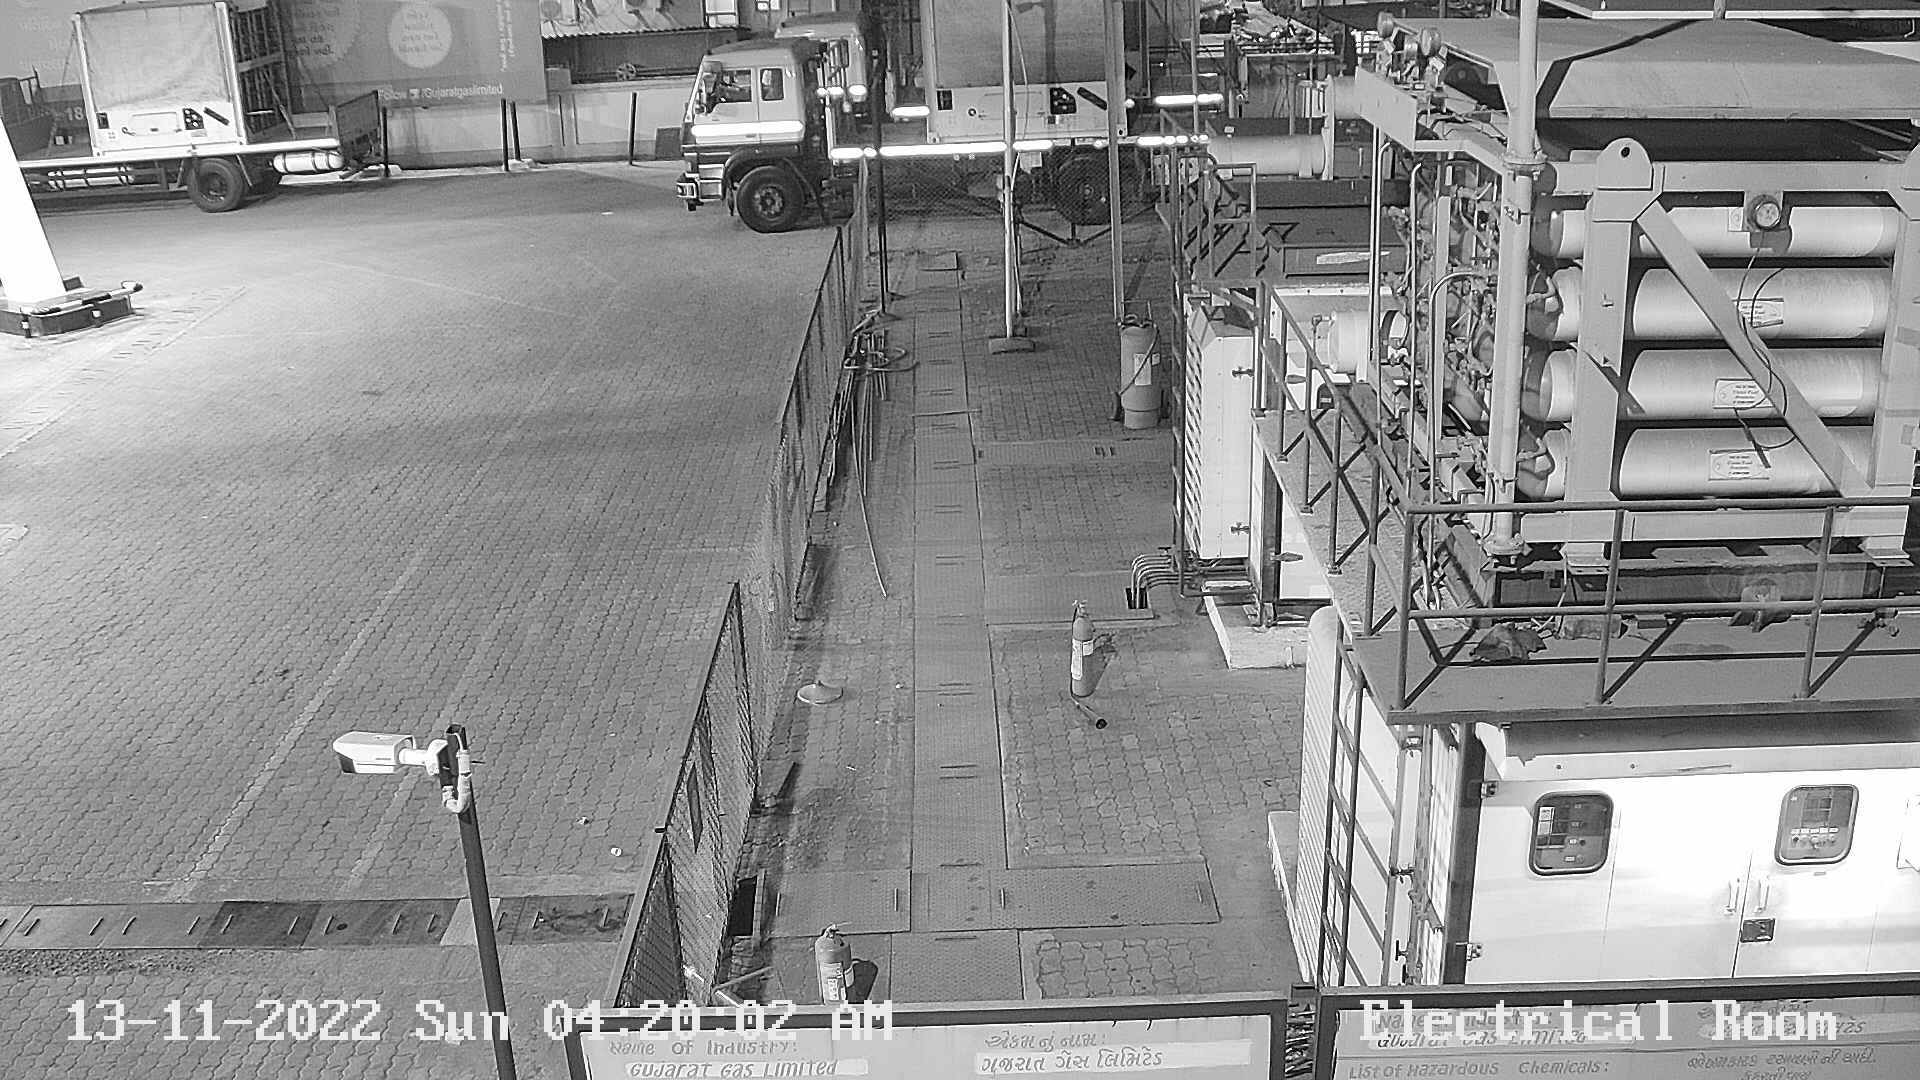HMV: (671, 1, 1224, 237), (1, 1, 396, 218), (760, 1, 1269, 135)
